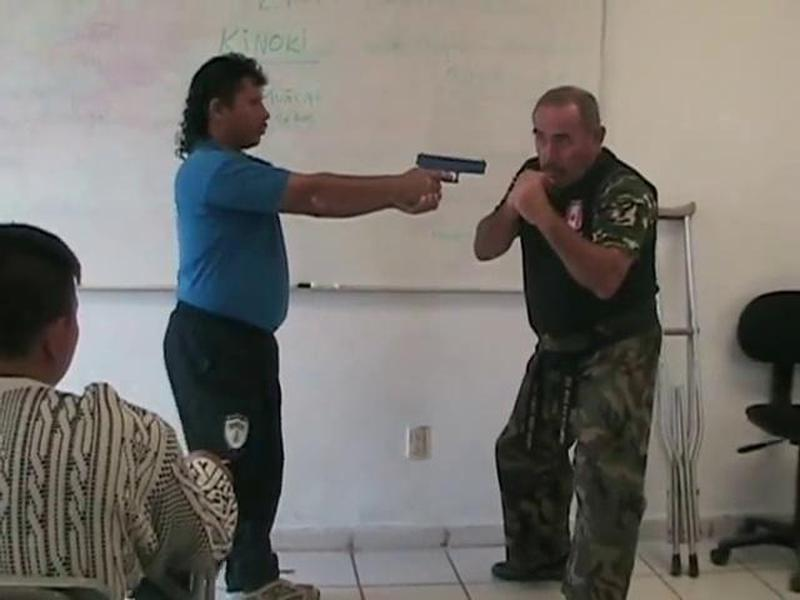Pistola: (408, 150, 495, 194)
